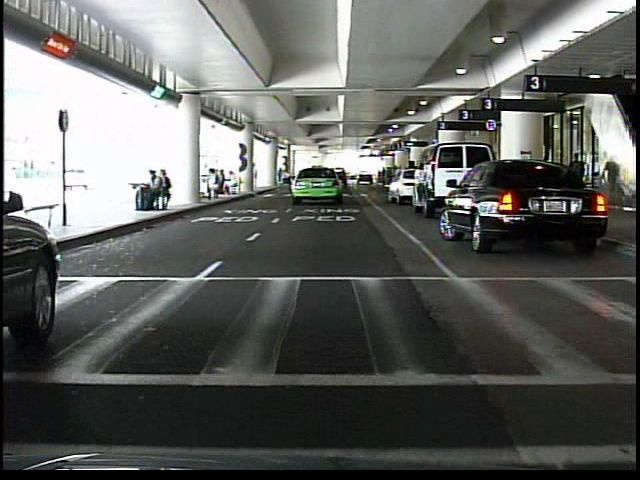person: (564, 149, 590, 212)
